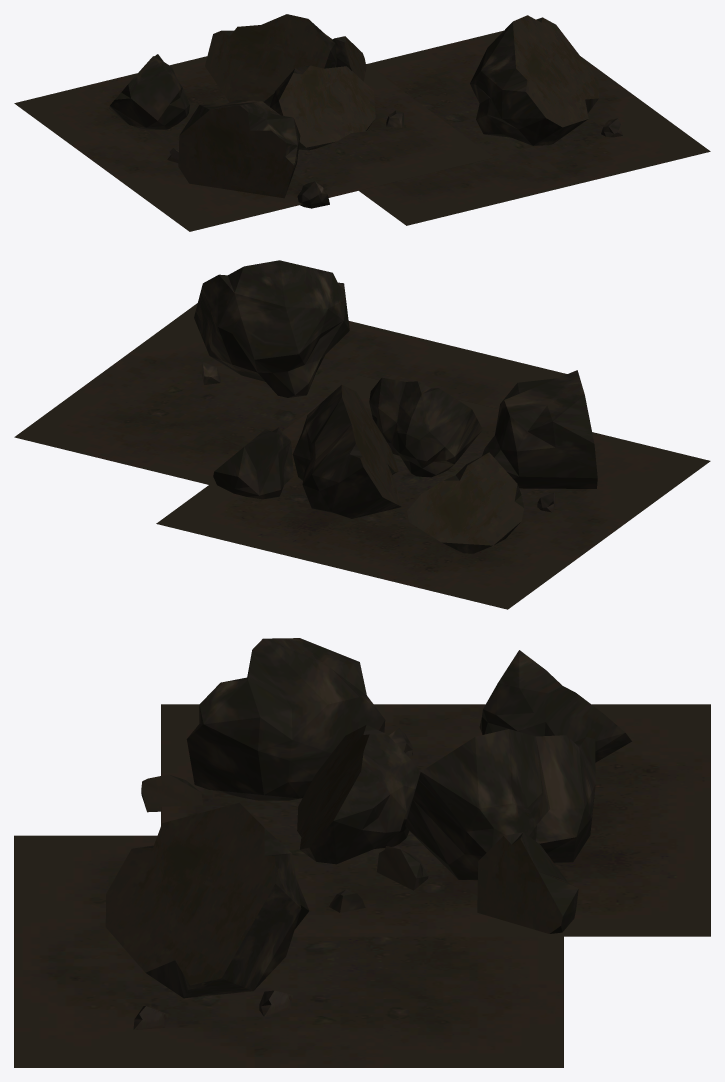
Rendered from fortress_rubble_07.fbx.
3 views of the same model, one above another, from view 1: azimuth 30°, elevation 25°; view 2: azimuth 150°, elevation 25°; view 3: azimuth 270°, elevation 25° (orthographic). The views are drawn at different scales.
Visible parts, largest first — view 1: fortress_rubble_07-0; view 2: fortress_rubble_07-0; view 3: fortress_rubble_07-0.
Boxes of the visible parts, <box> form: fortress_rubble_07-0: <box>14,14,710,231</box>; fortress_rubble_07-0: <box>14,260,710,609</box>; fortress_rubble_07-0: <box>14,638,710,1067</box>.
Bounding box in the file's own units: 6.23 × 1.43 × 5.07.
